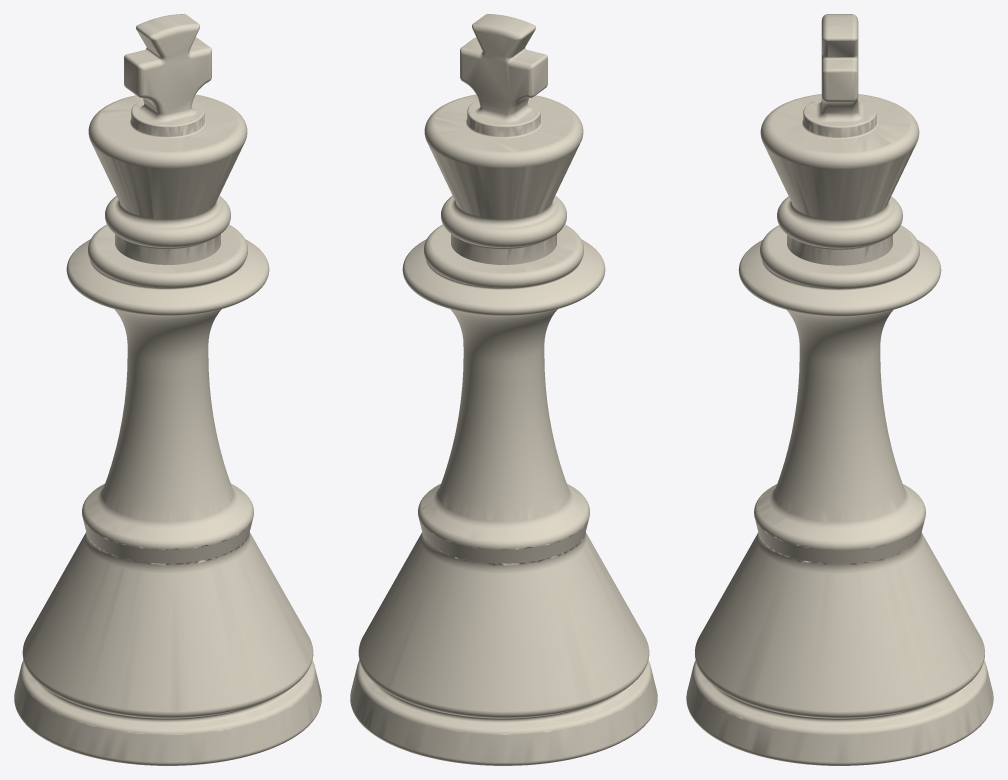
Rendered from rey.glb.
3 views of the same model, side by side, from view 1: azimuth 30°, elevation 25°; view 2: azimuth 150°, elevation 25°; view 3: azimuth 270°, elevation 25° (orthographic).
Visible parts, largest first — view 1: Object_2; view 2: Object_2; view 3: Object_2.
Part boxes in pixels (x1=…): Object_2: x1=14, y1=14, x2=321, y2=765; Object_2: x1=350, y1=14, x2=657, y2=765; Object_2: x1=686, y1=14, x2=993, y2=765.
Bounding box in the file's own units: 40.76 × 99.52 × 40.75.
